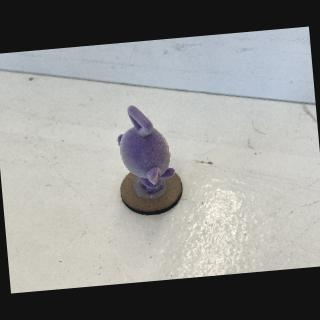teletubby: (118, 106, 175, 194)
